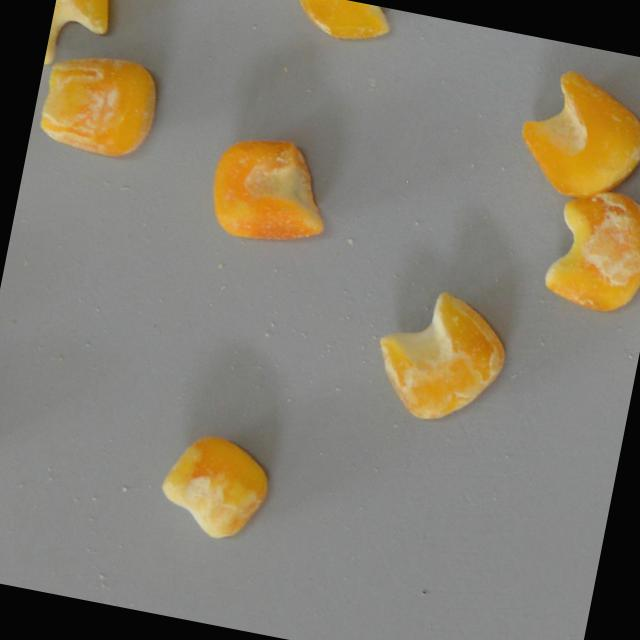dañado: (362, 276, 520, 438), (506, 56, 640, 211), (197, 122, 345, 258), (30, 40, 171, 167), (152, 423, 281, 550), (535, 178, 640, 323), (284, 0, 411, 57), (44, 0, 117, 75)
